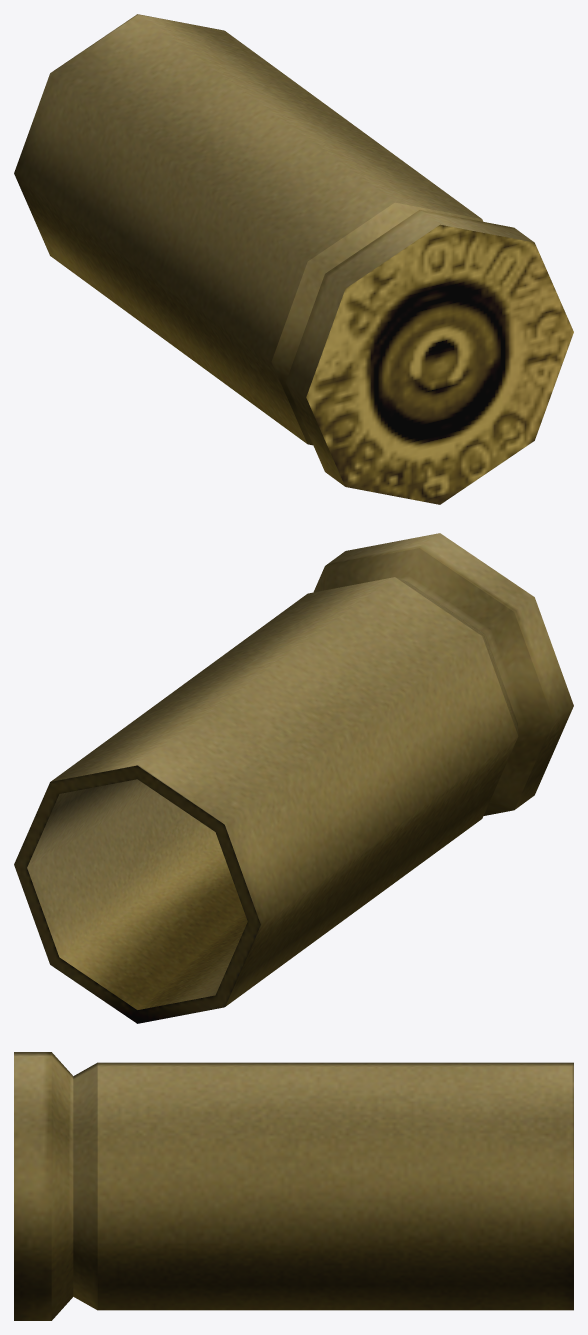
File: SAP_Brass.FBX
3 renders of one model, top to bottom at view 1: azimuth 30°, elevation 25°; view 2: azimuth 150°, elevation 25°; view 3: azimuth 270°, elevation 25°, orthographic. The views are drawn at different scales.
Visible parts, largest first — view 1: SAP_Brass; view 2: SAP_Brass; view 3: SAP_Brass.
Part boxes in pixels (x1,y1,x2,y2): SAP_Brass: (14,14,573,504); SAP_Brass: (14,533,573,1023); SAP_Brass: (14,1052,573,1320).
Size of the model in its own units: 1.97 by 1.97 by 3.86.
